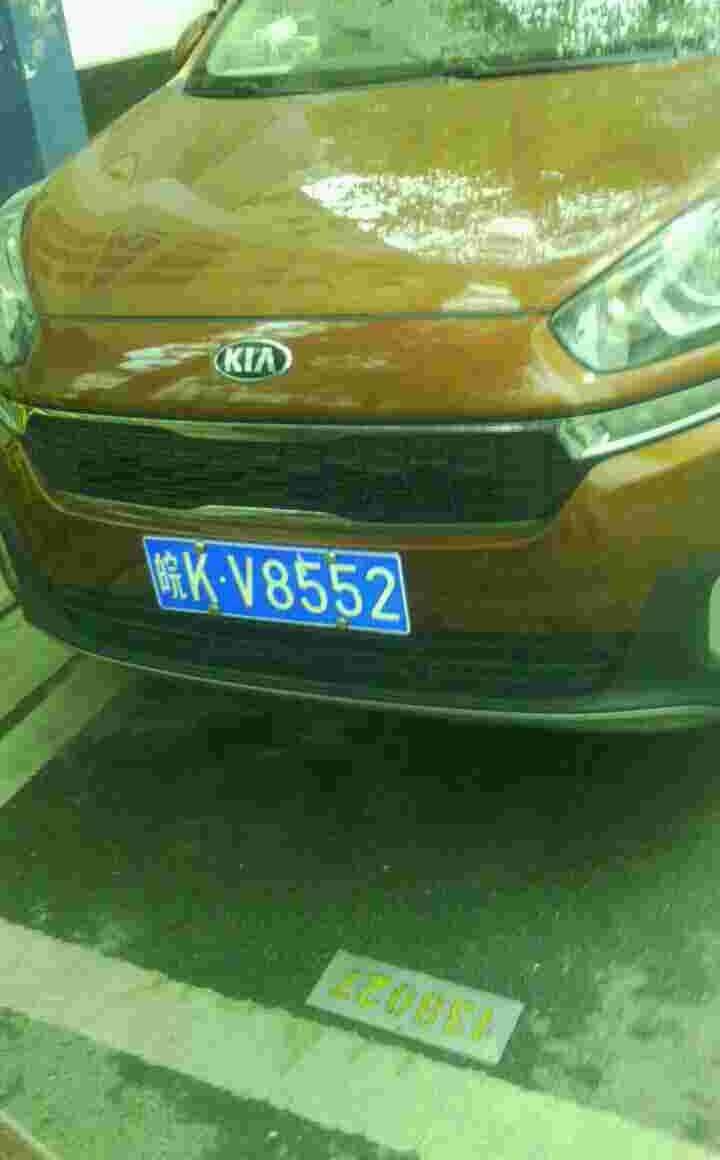car: (136, 536, 434, 640)
